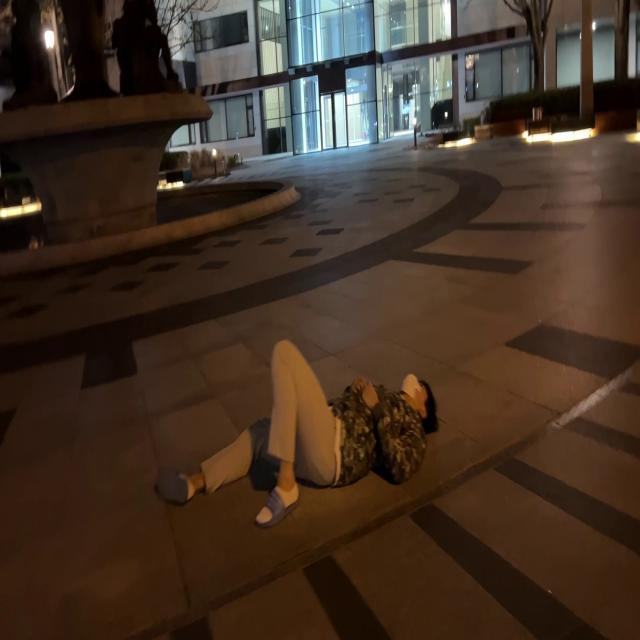Fall: (155, 340, 439, 528)
